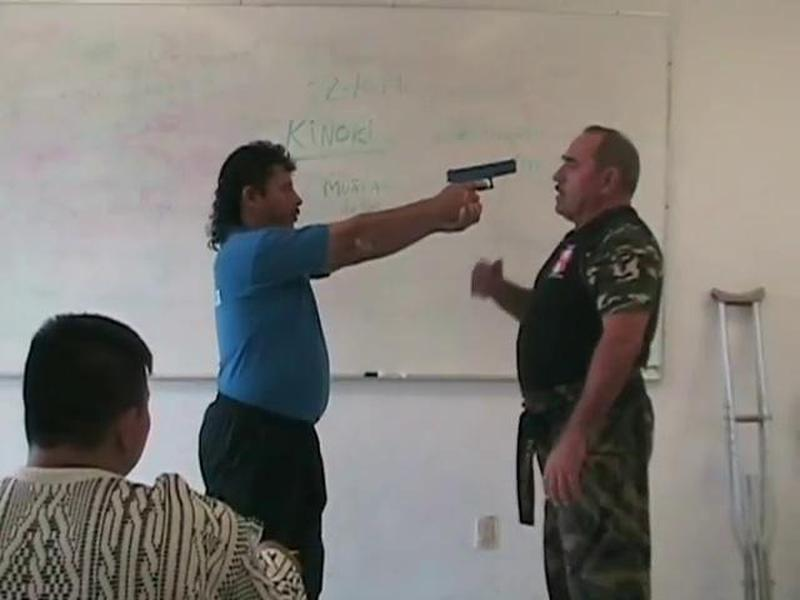Pistola: (444, 158, 547, 241)
